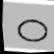no answer: (14, 16, 53, 45)
